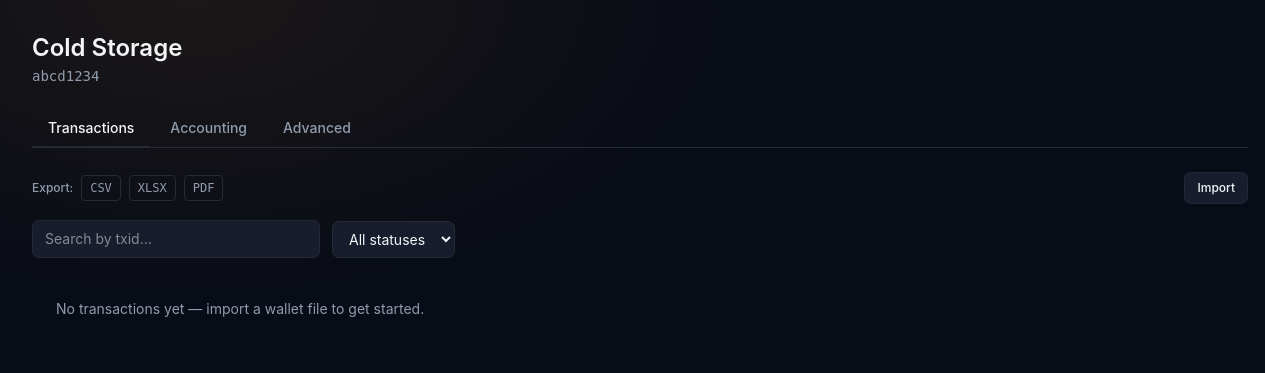
WalletPage › surfaces an accounting-load failure on the Accounting tab
The width and height of the screenshot is (1265, 373).
What coordinates should you click on to do the following:
click the tab "Accounting"
I would click on:
 (209, 129)
Its box is [154,110,263,148].
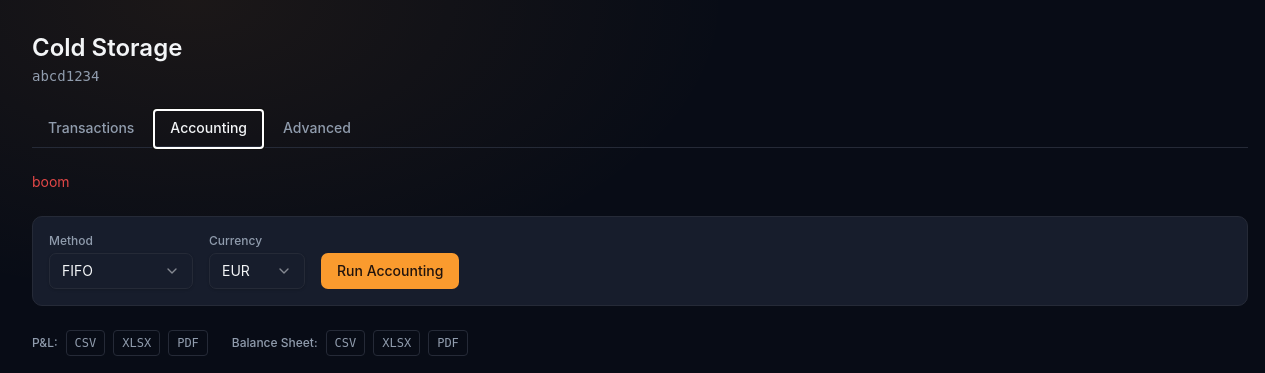
Expected: the message reads "boom", [32,173,70,190]
